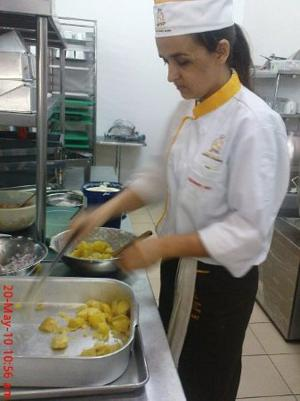person: (64, 1, 291, 401)
